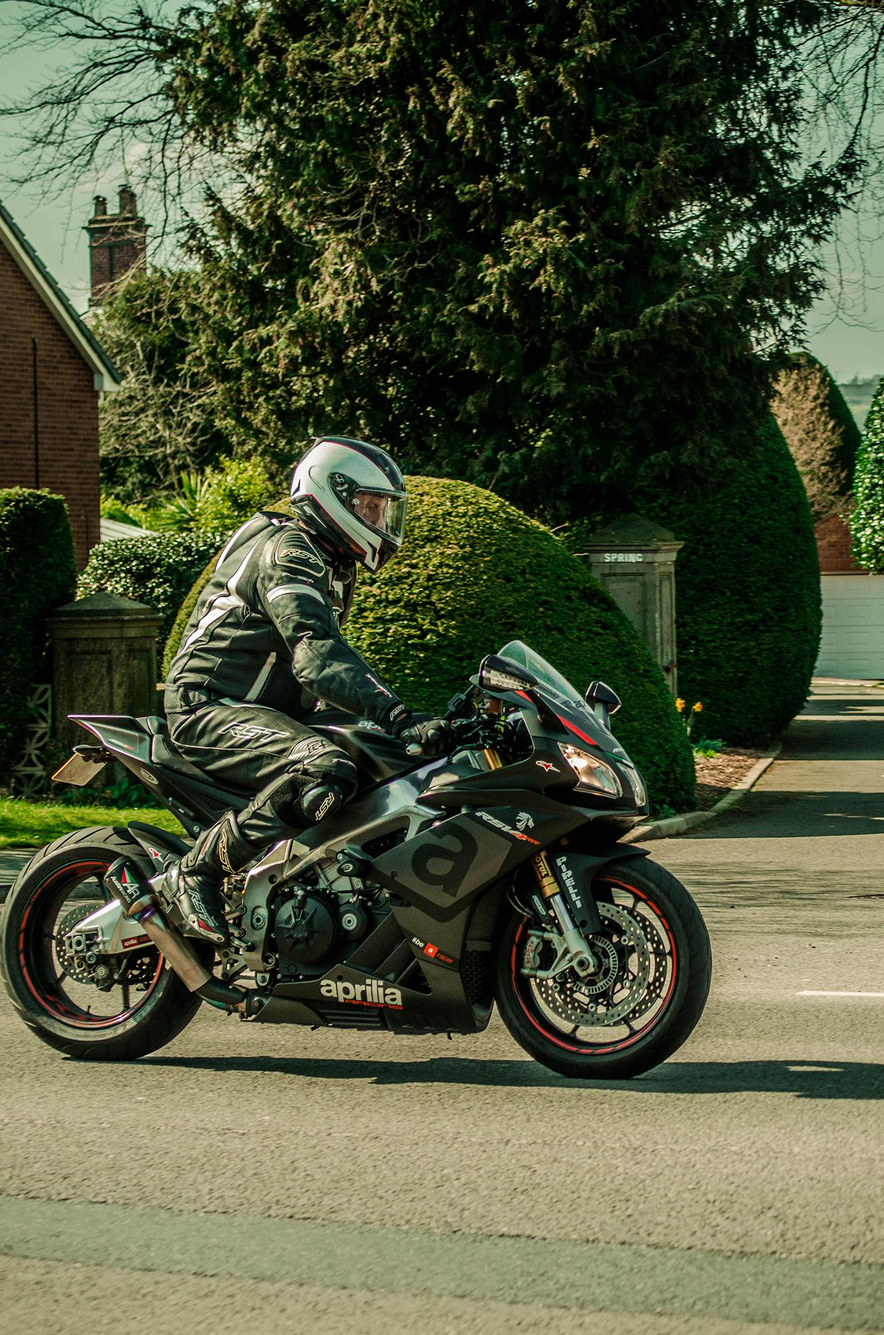helmet: (289, 434, 409, 576)
